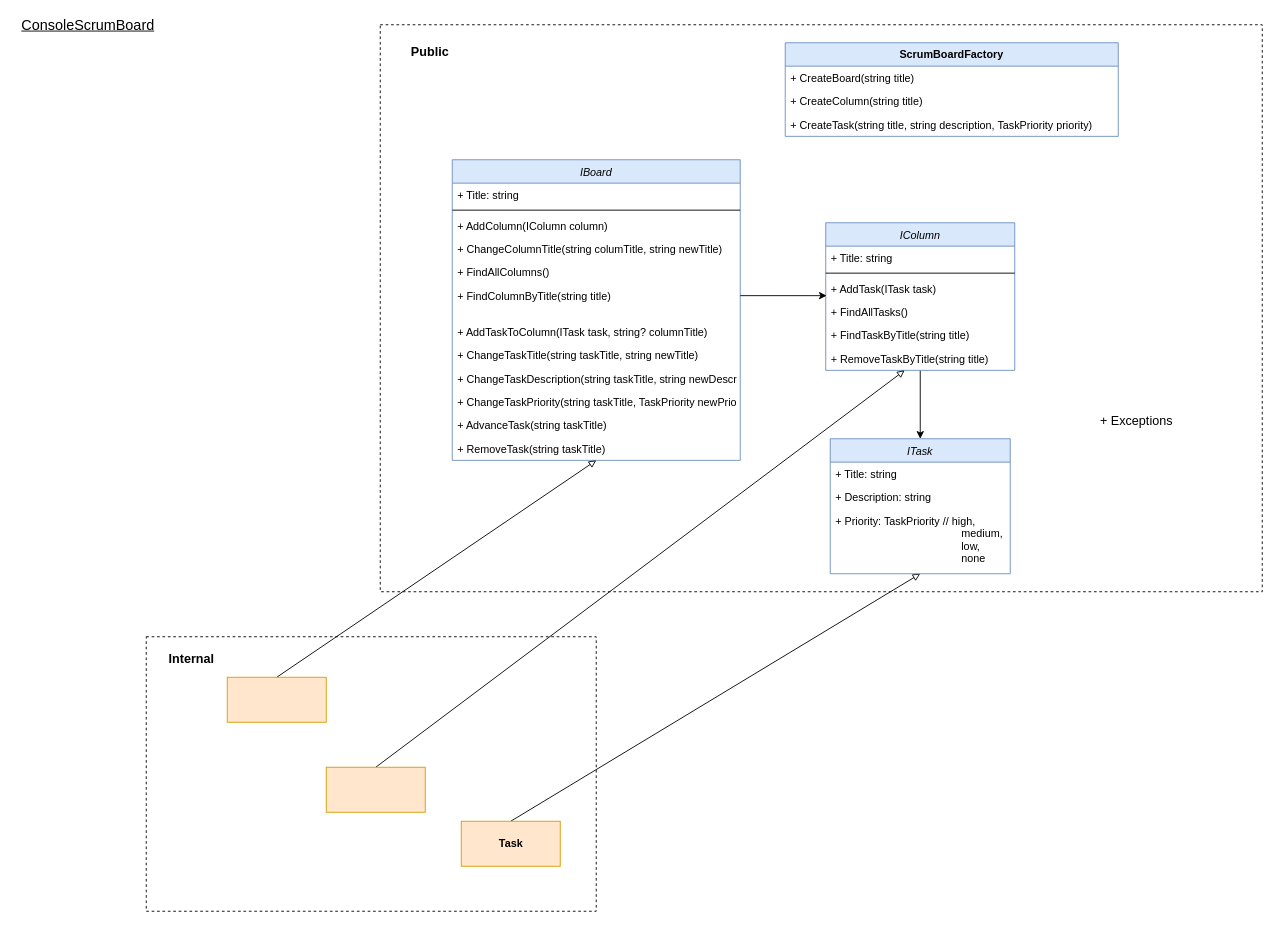
The diagram is 1278 pixels wide and 927 high, and some of its shapes have lost their labels. The shapes that lost their labels are listed below. From the top down, each one's centre as x and y in pixels, then its label:
At point 276,699: "Board".
At point 375,789: "Column".
